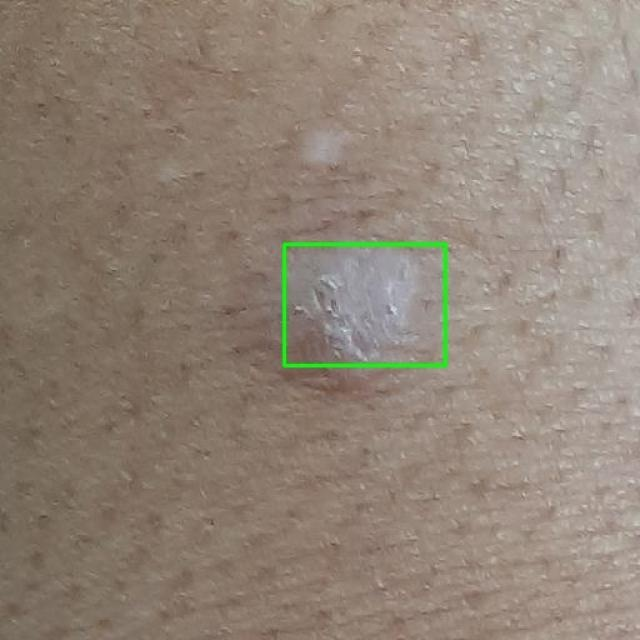Contact Dermatitis: (284, 244, 445, 365)
